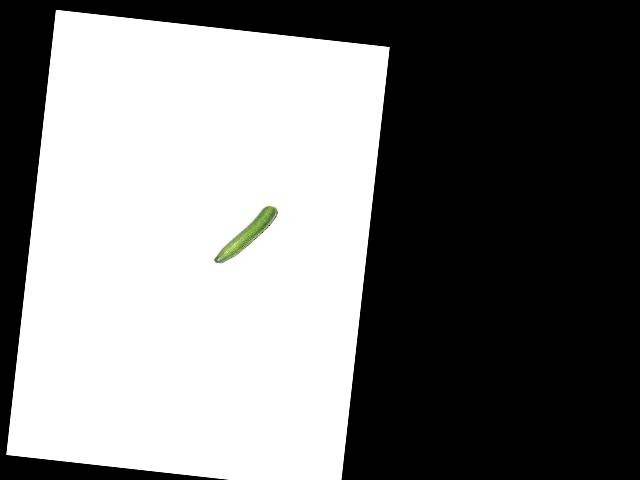cucumber: (213, 200, 278, 268)
